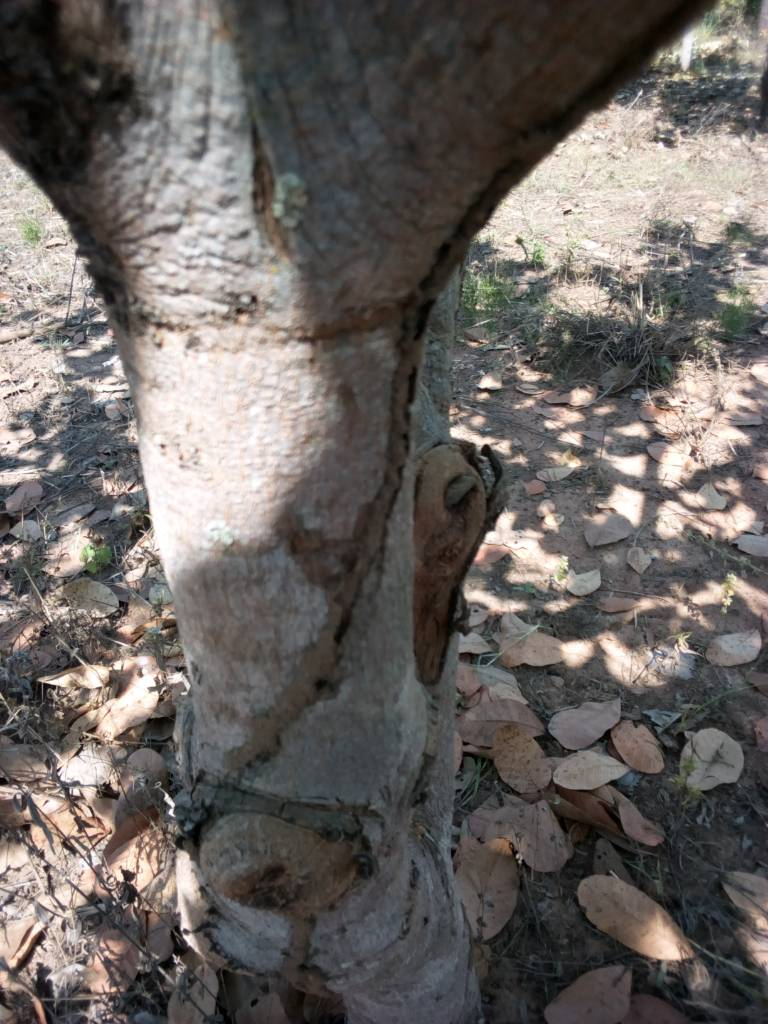Termites: (199, 367, 418, 778), (258, 910, 438, 978)
